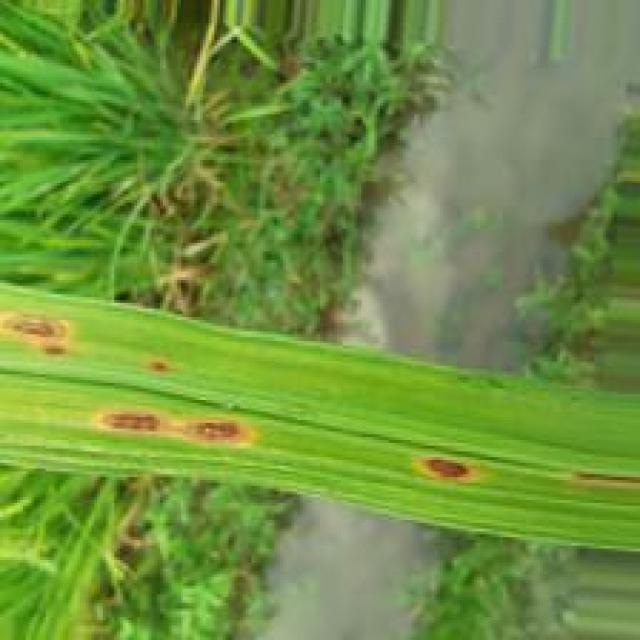Narrow_Brown_Leaf_Spot: (92, 408, 250, 453), (9, 316, 63, 339), (427, 458, 474, 476), (42, 346, 69, 357), (150, 359, 168, 370)
